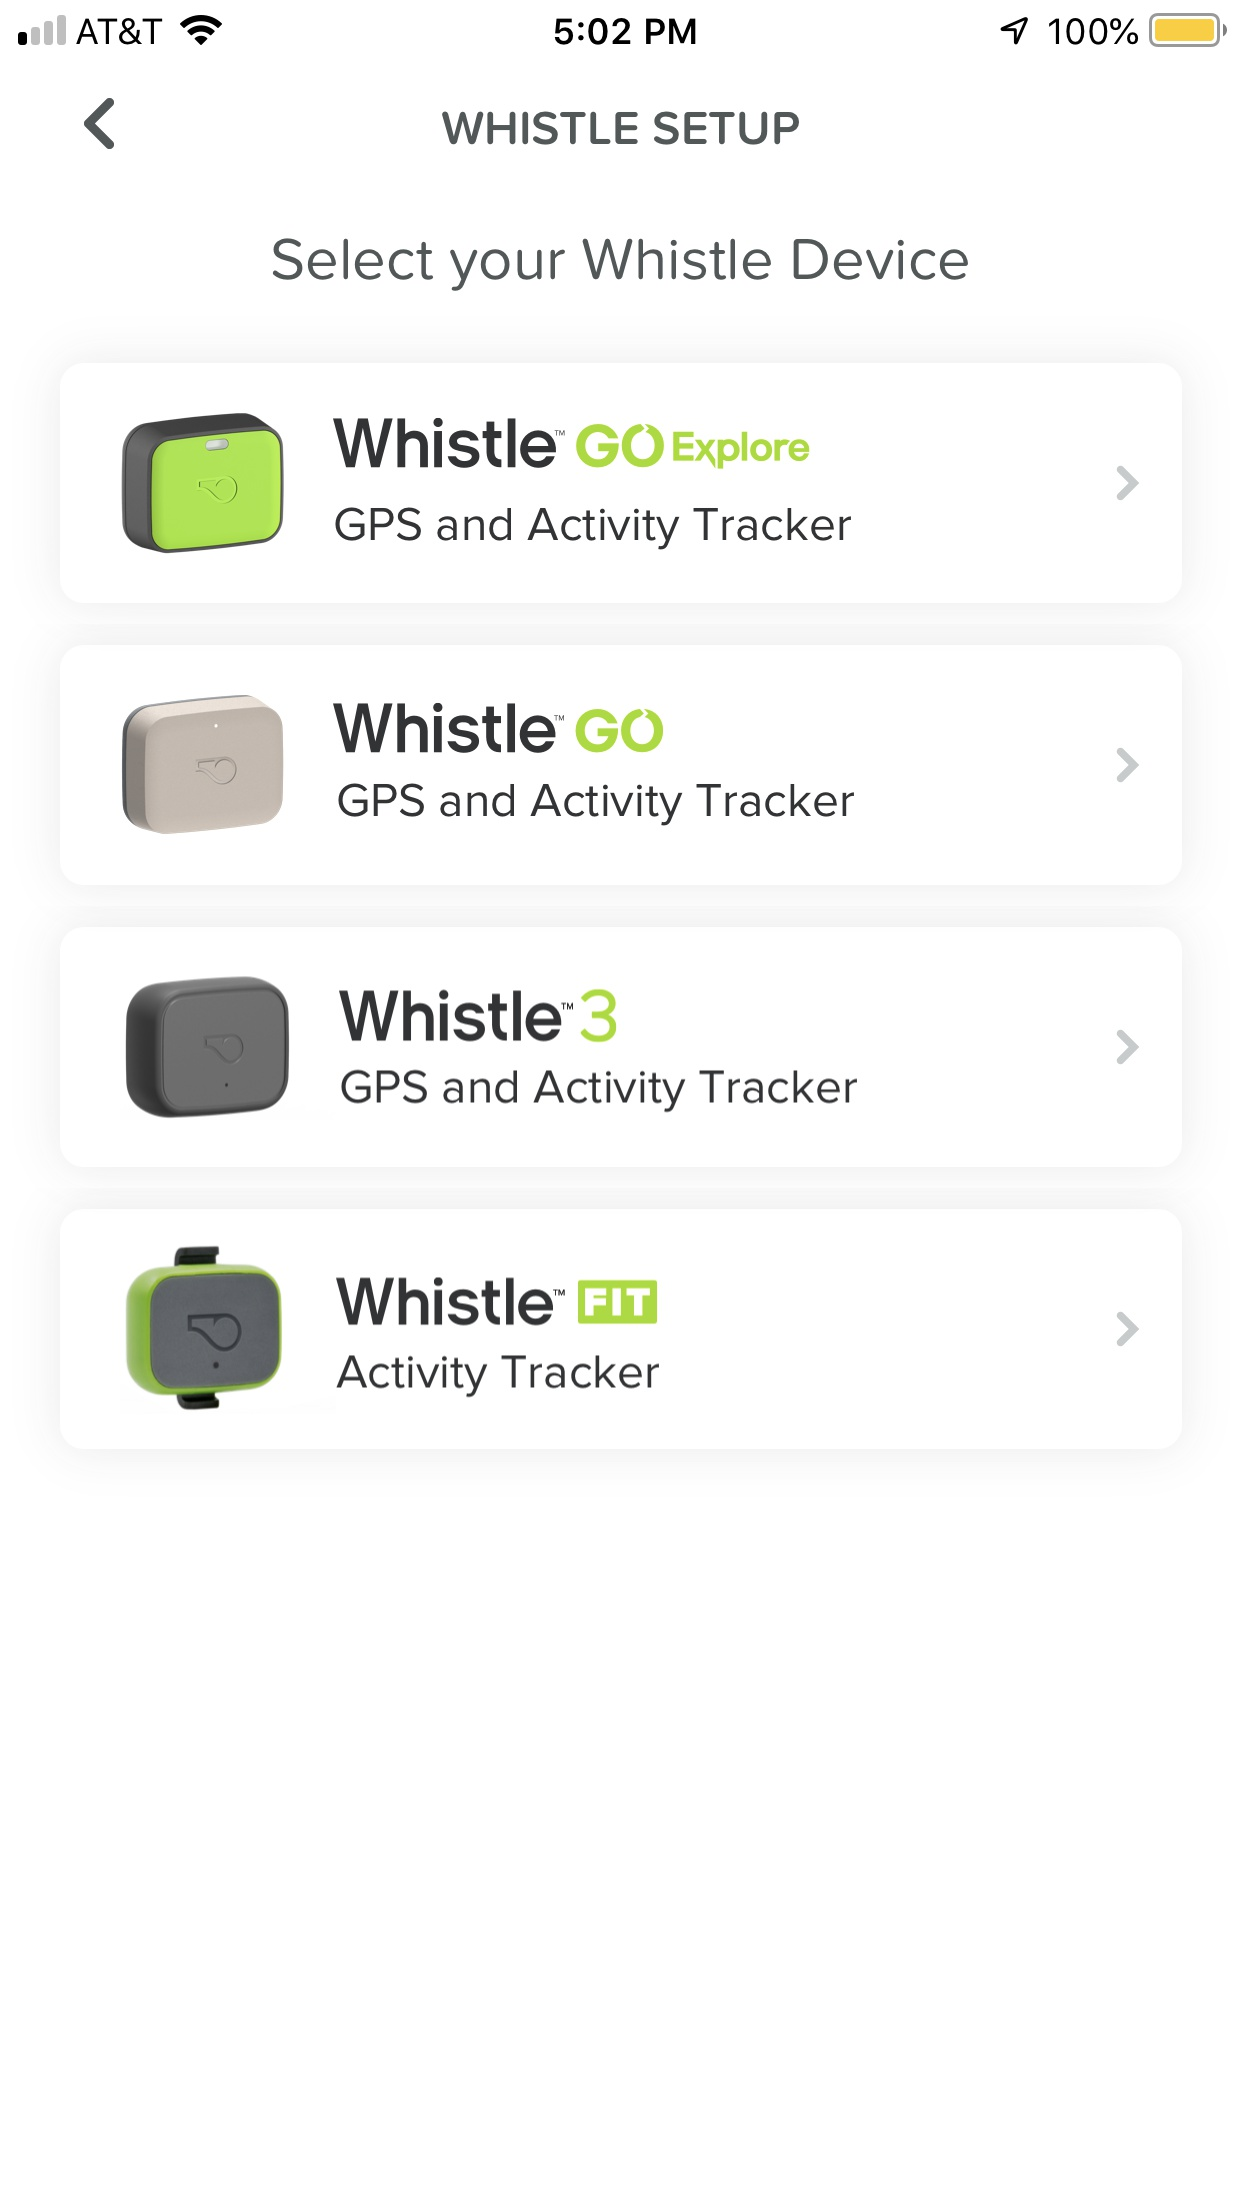Icon: (83, 99, 115, 152), (1116, 1312, 1140, 1348), (1116, 748, 1140, 784), (1116, 466, 1140, 502), (1116, 1030, 1140, 1065)
Image: (126, 1245, 284, 1410), (126, 975, 291, 1119), (121, 412, 285, 555), (121, 695, 285, 836)
Text: (271, 238, 969, 293), (334, 417, 811, 472), (337, 783, 855, 828), (341, 1069, 858, 1115), (335, 507, 852, 550), (334, 704, 666, 755), (337, 1277, 658, 1327), (340, 989, 619, 1043), (337, 1356, 660, 1400), (441, 111, 801, 147)
UpperTaskBar: (2, 2, 1242, 49)
